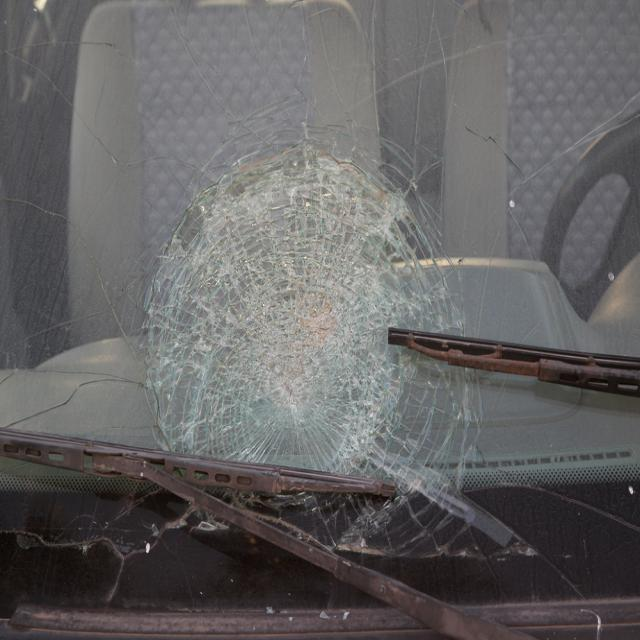glass shatter: (0, 0, 640, 611)
